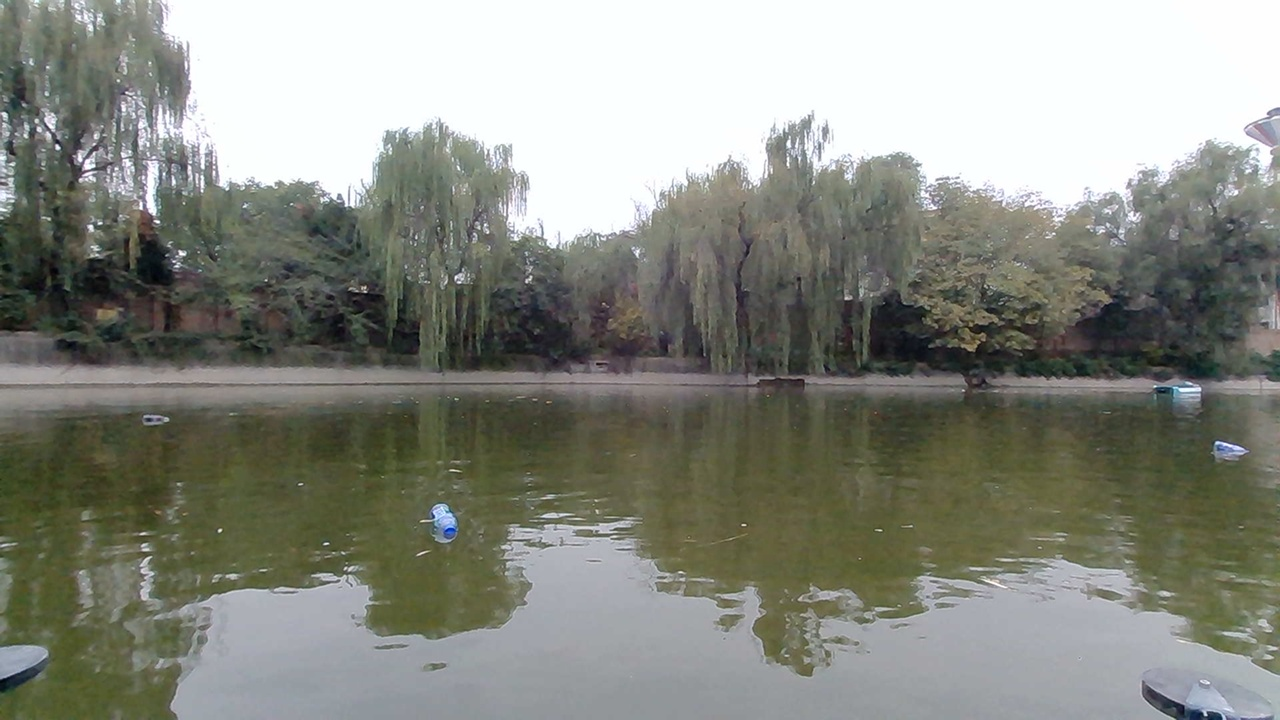bottle: (420, 504, 470, 541), (1202, 435, 1247, 469), (141, 396, 173, 430)
